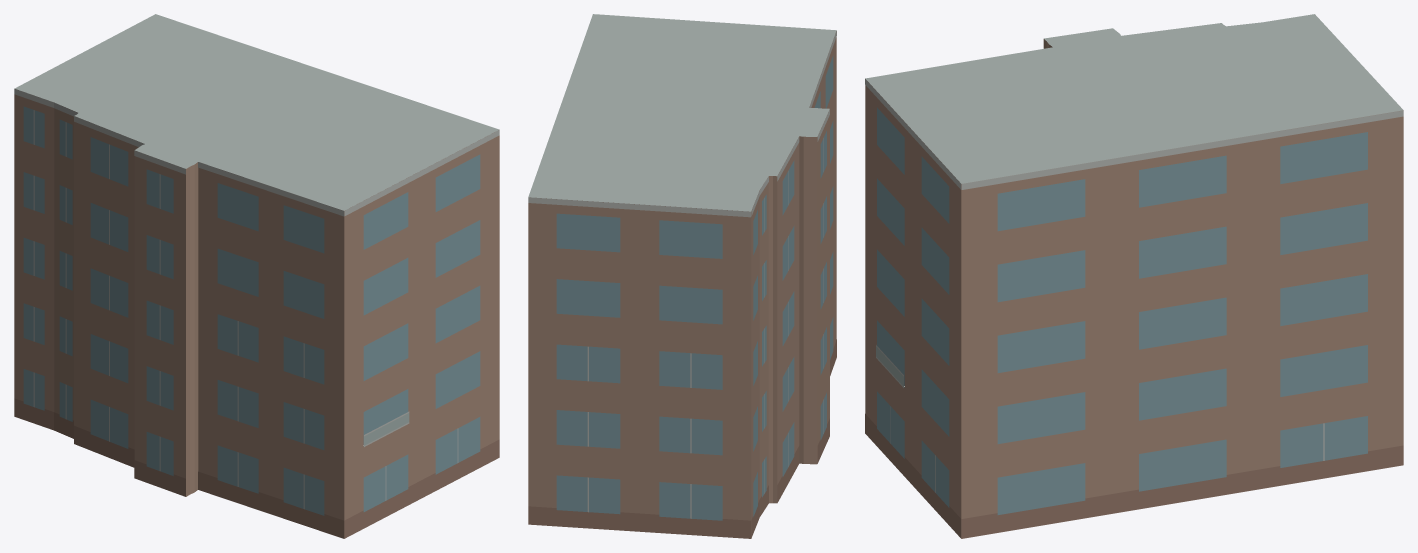
File: survey-upis-32941089.glb
3 views of the same model, side by side, from view 1: azimuth 30°, elevation 25°; view 2: azimuth 150°, elevation 25°; view 3: azimuth 270°, elevation 25° (orthographic). The views are drawn at different scales.
Visible parts, largest first — view 1: survey-upis-32941089.tmp; view 2: survey-upis-32941089.tmp; view 3: survey-upis-32941089.tmp.
Part boxes in pixels (x1=…): survey-upis-32941089.tmp: x1=14, y1=14, x2=499, y2=538; survey-upis-32941089.tmp: x1=528, y1=14, x2=836, y2=538; survey-upis-32941089.tmp: x1=865, y1=14, x2=1403, y2=538.
Bounding box in the file's own units: 14.39 × 14 × 19.26.
